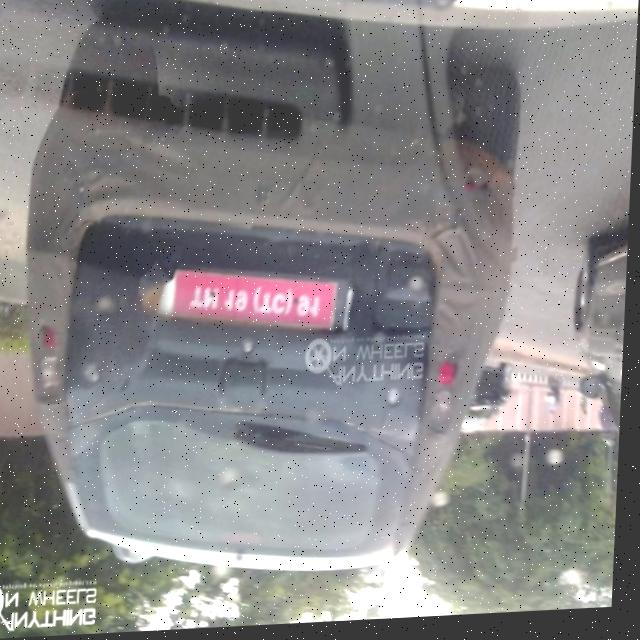plate: (164, 264, 348, 344)
